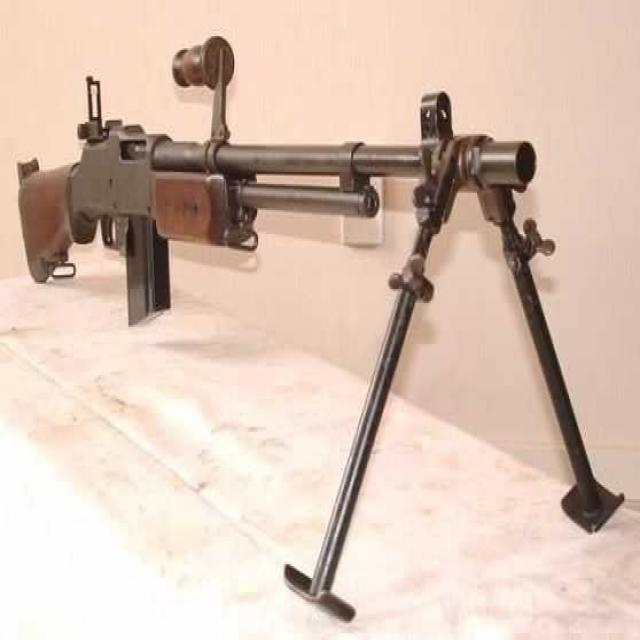weapon: (17, 16, 570, 367)
